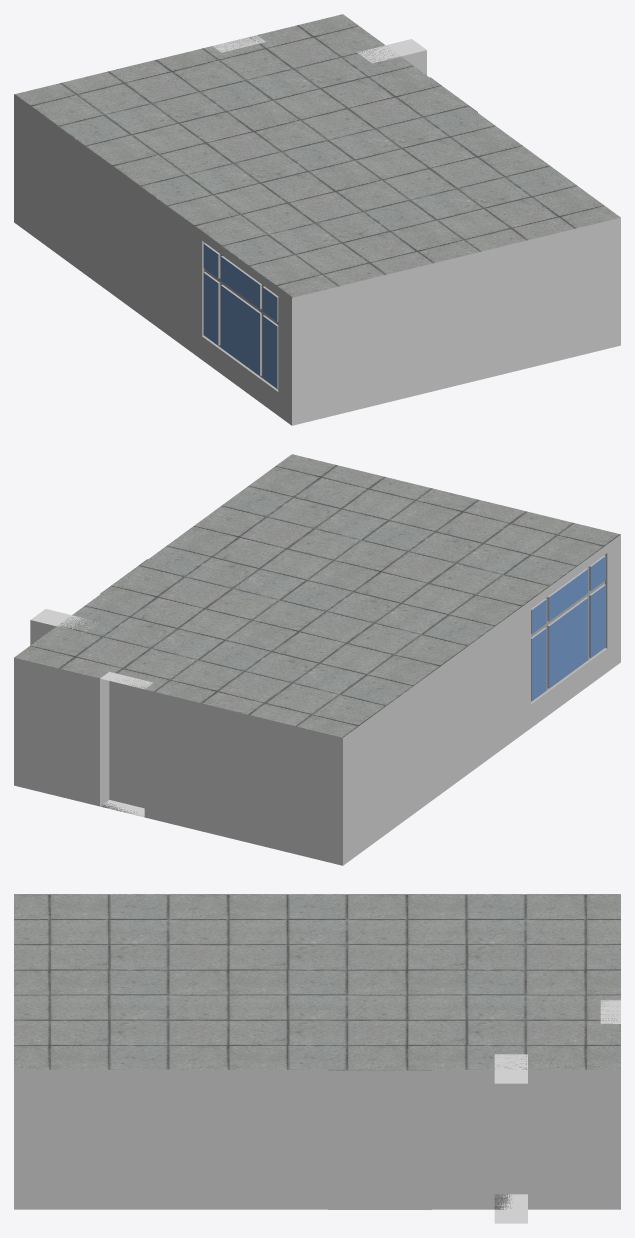
The model's file is Aula 203 (1).fbx.
3 renders of one model, top to bottom at view 1: azimuth 30°, elevation 25°; view 2: azimuth 150°, elevation 25°; view 3: azimuth 270°, elevation 25°, orthographic. The views are drawn at different scales.
Parts seen in each view (by area): view 1: Techo, Paredes, Ventana; view 2: Techo, Paredes, Ventana; view 3: Techo, Paredes.
Part boxes in pixels (left/top/right/bottom): Techo: left=14, top=14, right=620, bottom=297; Paredes: left=14, top=35, right=620, bottom=425; Ventana: left=202, top=241, right=278, bottom=391; Techo: left=14, top=454, right=620, bottom=737; Paredes: left=14, top=534, right=620, bottom=865; Ventana: left=531, top=553, right=607, bottom=703; Techo: left=14, top=894, right=620, bottom=1070; Paredes: left=14, top=1000, right=620, bottom=1223.
Size of the model in its own units: 1733 by 597 by 2348.
